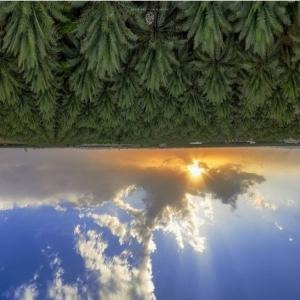palm tree: (0, 1, 300, 144)
